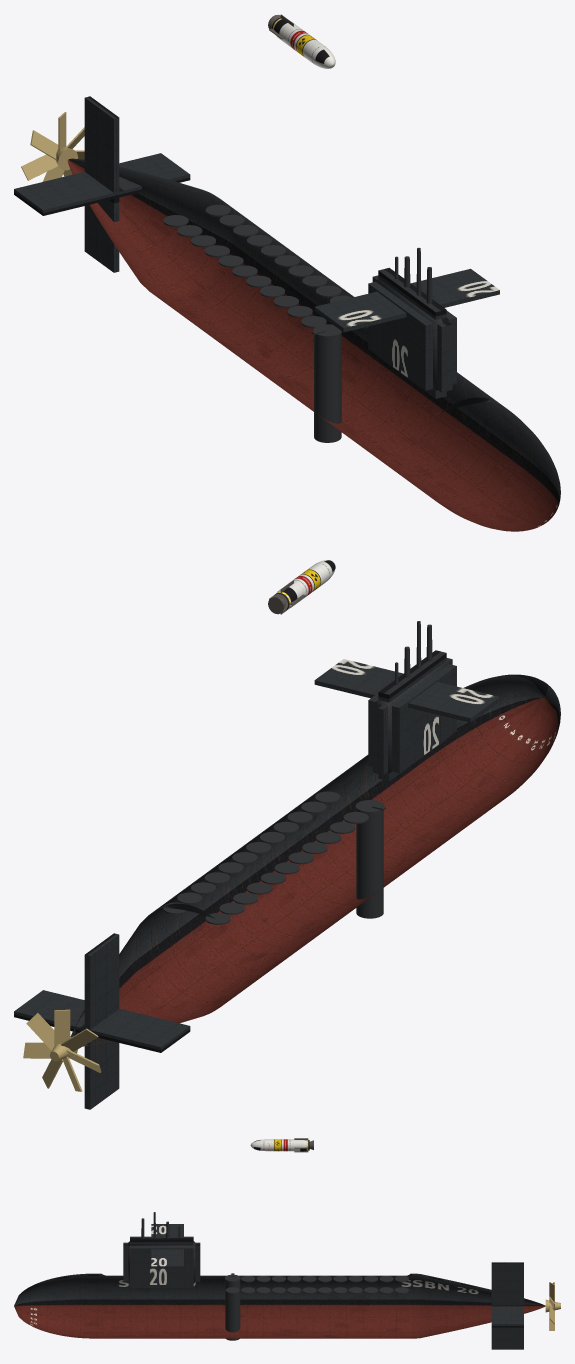
The picture shows the model from 3 angles, top to bottom: view 1: azimuth 30°, elevation 25°; view 2: azimuth 150°, elevation 25°; view 3: azimuth 270°, elevation 25°; orthographic projection. The views are drawn at different scales.
Visible parts, largest first — view 1: Hull, Sail, SternPlane1, SailPlanes, SternPlane0, Tube, Prop, NukeBody; view 2: Hull, Sail, SternPlane1, SternPlane0, SailPlanes, Prop, Tube, NukeBody; view 3: Hull, Sail, SternPlane1, SailPlanes, Tube, SternPlane0, NukeBody, Prop.
Boxes of the visible parts, x1,y1,x2,y2 form: Hull: [67, 158, 560, 531]; Sail: [368, 267, 456, 398]; SternPlane1: [84, 96, 119, 272]; SailPlanes: [314, 268, 499, 332]; SternPlane0: [14, 153, 190, 215]; Tube: [314, 334, 341, 442]; Prop: [21, 112, 84, 181]; NukeBody: [272, 17, 335, 68]; Hull: [70, 674, 560, 1046]; Sail: [368, 650, 456, 781]; SternPlane1: [84, 933, 119, 1109]; SternPlane0: [14, 990, 190, 1052]; SailPlanes: [314, 659, 499, 722]; Prop: [23, 1009, 101, 1091]; Tube: [356, 810, 383, 918]; NukeBody: [272, 560, 335, 611]; Hull: [14, 1273, 545, 1338]; Sail: [123, 1236, 200, 1287]; SternPlane1: [491, 1262, 523, 1349]; SailPlanes: [151, 1224, 183, 1268]; Tube: [225, 1280, 240, 1340]; SternPlane0: [491, 1305, 523, 1327]; NukeBody: [250, 1139, 309, 1151]; Prop: [545, 1282, 560, 1330].
Size of the model in its own units: 17 by 39.3 by 92.5.
Materials: 6 (3 with a texture image).
